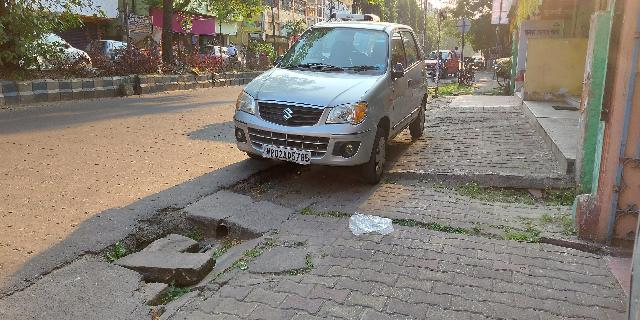Car: (232, 16, 433, 190)
